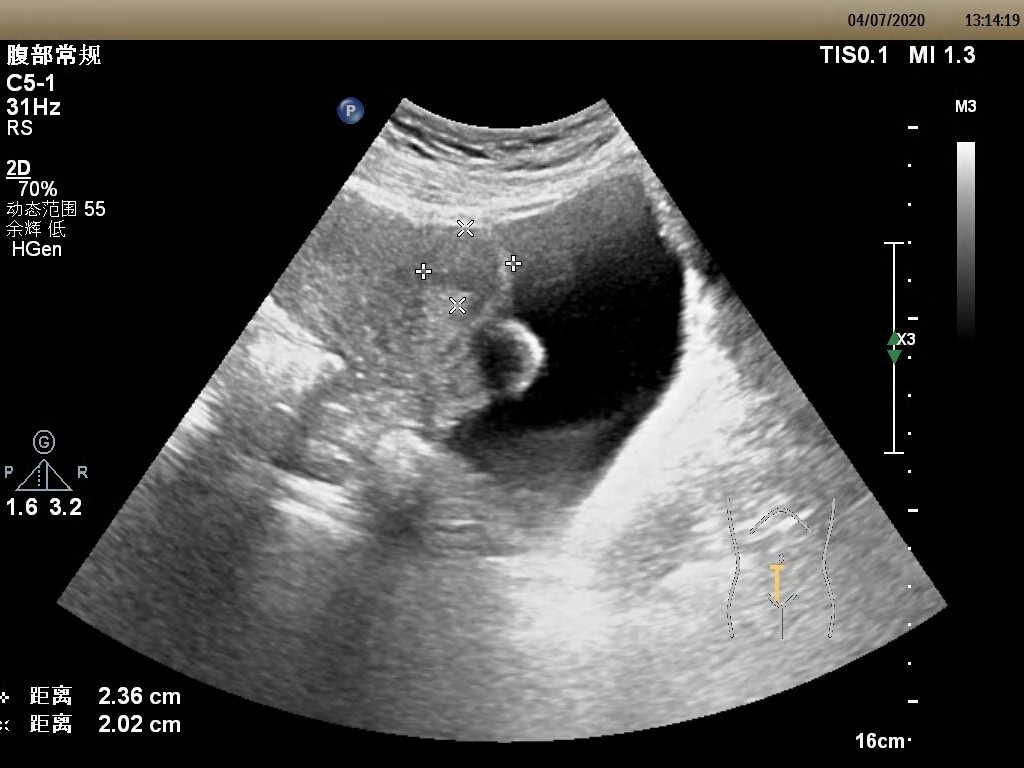肌瘤: (423, 226, 501, 294)
